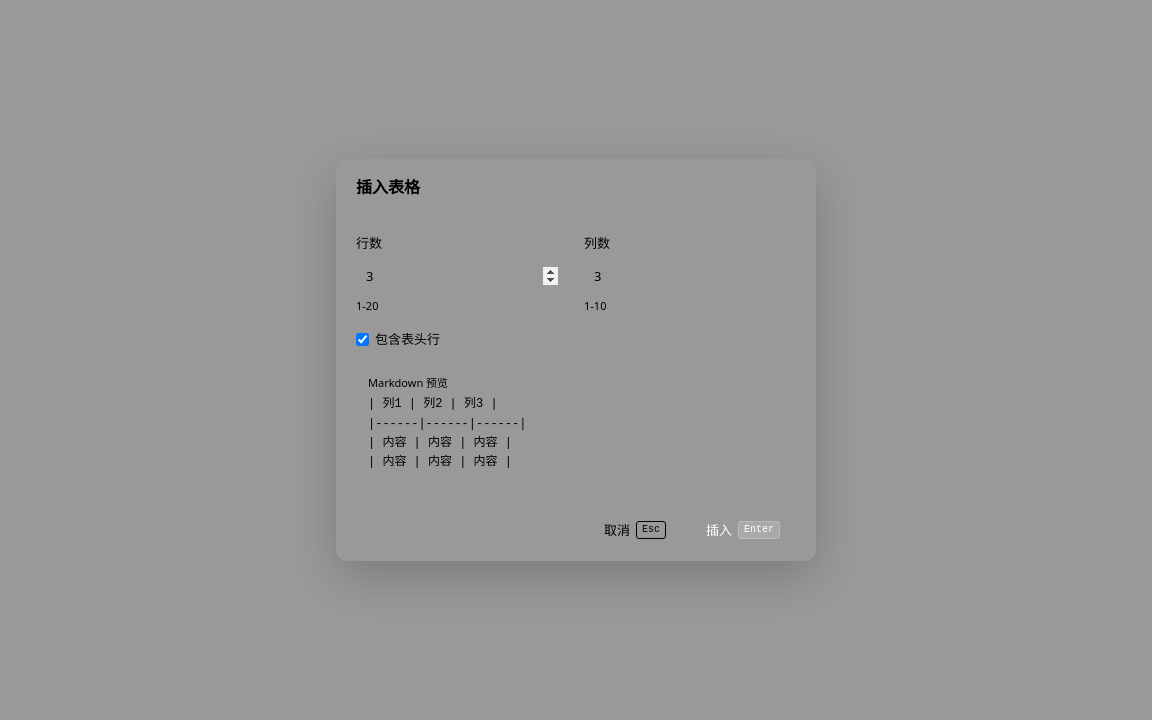
Test: <TableDialog /> › 行数超出 20 被 clamp
Replace the text in the number field below "行数" with "100" at [462, 276], box [356, 259, 568, 293]
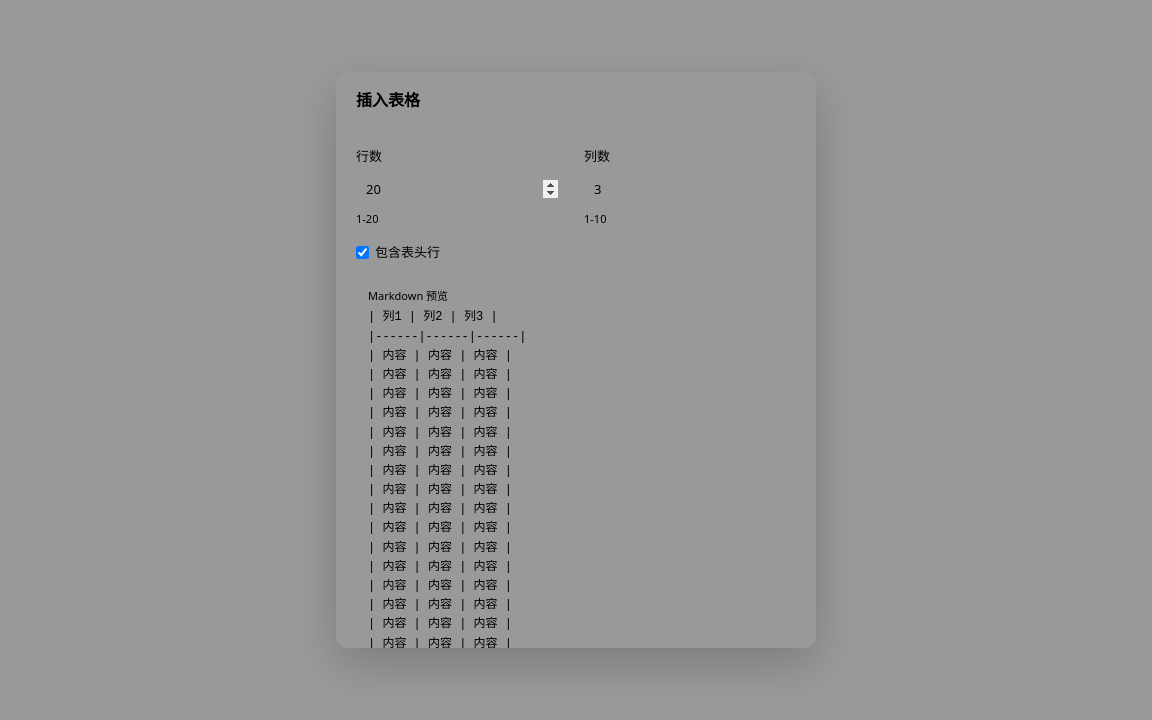
Expected: the number field below "行数" holds "20", [356, 172, 568, 206]
